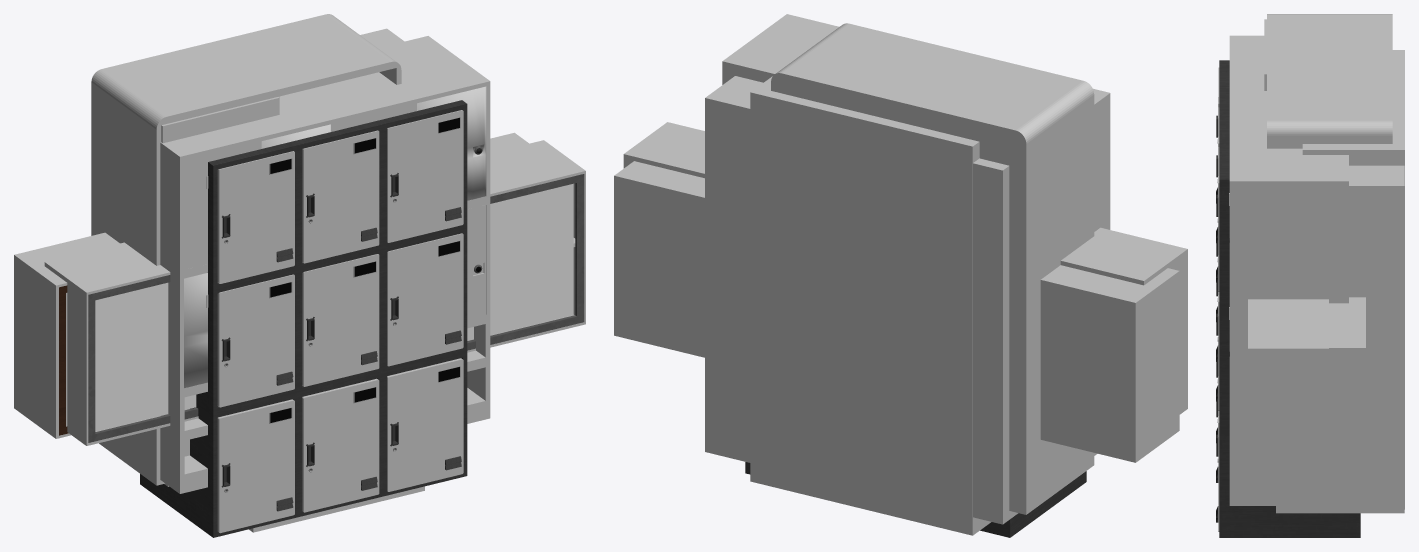
File: Cabinets.fbx
3 views of the same model, side by side, from view 1: azimuth 30°, elevation 25°; view 2: azimuth 150°, elevation 25°; view 3: azimuth 270°, elevation 25° (orthographic). The views are drawn at different scales.
Parts seen in each view (by area): view 1: Cabinet 8 Base, Cabinet 2 Base, Cabinet 9 Base, Cabinet 7 Base, Cabinet 7 Door 2, Cabinet 6 Base, Cabinet 7 Door 1, Cabinet 9 Door 8, Cabinet 9 Door 7, Cabinet 9 Door 2, Cabinet 9 Door 4, Cabinet 9 Door 1 (+10 smaller); view 2: Cabinet 10 Base, Cabinet 8 Base, Cabinet 6 Base, Cabinet 4 Base, Cabinet 7 Base, Cabinet 2 Base, Cabinet 9 Base; view 3: Cabinet 2 Base, Cabinet 4 Base, Cabinet 8 Base, Cabinet 7 Base, Cabinet 9 Base, Cabinet 6 Base, Cabinet 10 Base, Cabinet 9 Door 3, Cabinet 9 Door 9, Cabinet 9 Door 6.
Boxes of the visible parts, box(x1,y1,x2,y2) form: Cabinet 8 Base: box(91, 14, 401, 485); Cabinet 2 Base: box(160, 36, 490, 493); Cabinet 9 Base: box(140, 100, 467, 537); Cabinet 7 Base: box(44, 140, 585, 445); Cabinet 7 Door 2: box(467, 183, 573, 340); Cabinet 6 Base: box(14, 132, 528, 438); Cabinet 7 Door 1: box(95, 282, 196, 431); Cabinet 9 Door 8: box(302, 378, 379, 512); Cabinet 9 Door 7: box(217, 399, 294, 533); Cabinet 9 Door 2: box(302, 130, 379, 263); Cabinet 9 Door 4: box(217, 274, 294, 407); Cabinet 9 Door 1: box(217, 151, 294, 283); Cabinet 10 Base: box(750, 76, 990, 535); Cabinet 8 Base: box(771, 23, 1094, 514); Cabinet 6 Base: box(614, 161, 1179, 462); Cabinet 4 Base: box(705, 76, 1018, 524); Cabinet 7 Base: box(623, 122, 1187, 414); Cabinet 2 Base: box(722, 14, 1110, 455); Cabinet 9 Base: box(745, 462, 1086, 537); Cabinet 2 Base: box(1229, 35, 1348, 505); Cabinet 4 Base: box(1276, 165, 1404, 513); Cabinet 8 Base: box(1267, 14, 1392, 148); Cabinet 7 Base: box(1248, 299, 1328, 496); Cabinet 9 Base: box(1219, 60, 1360, 537); Cabinet 6 Base: box(1329, 297, 1365, 495); Cabinet 10 Base: box(1302, 50, 1404, 509); Cabinet 9 Door 3: box(1216, 147, 1219, 291); Cabinet 9 Door 9: box(1216, 411, 1219, 531); Cabinet 9 Door 6: box(1216, 292, 1219, 410).
Size of the model in its own units: 1689 by 1308 by 562.
